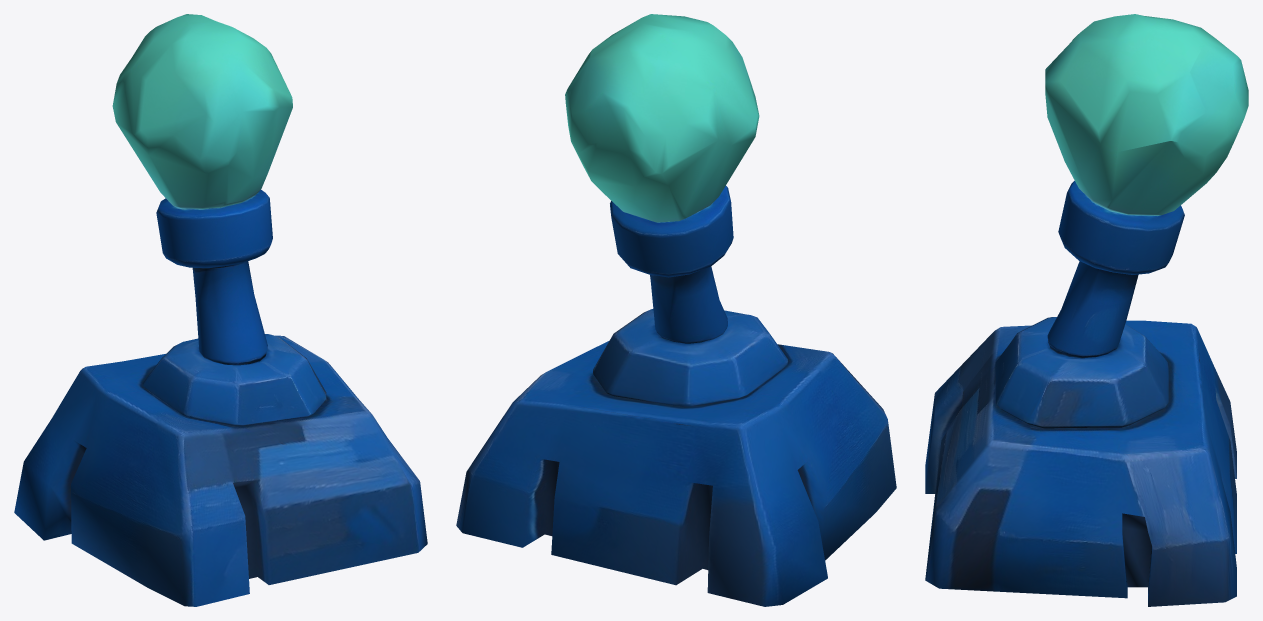
The model's file is ufo-shield-emitter.glb.
3 renders of one model, left to right at view 1: azimuth 30°, elevation 25°; view 2: azimuth 150°, elevation 25°; view 3: azimuth 270°, elevation 25°, orthographic. The views are drawn at different scales.
Parts seen in each view (by area): view 1: tripo_node_2fa7f583-fdff-44cc-8351-ef418d7a3222; view 2: tripo_node_2fa7f583-fdff-44cc-8351-ef418d7a3222; view 3: tripo_node_2fa7f583-fdff-44cc-8351-ef418d7a3222.
Boxes of the visible parts, bbox=[...] form: tripo_node_2fa7f583-fdff-44cc-8351-ef418d7a3222: bbox=[14, 14, 427, 606]; tripo_node_2fa7f583-fdff-44cc-8351-ef418d7a3222: bbox=[456, 14, 896, 606]; tripo_node_2fa7f583-fdff-44cc-8351-ef418d7a3222: bbox=[925, 14, 1248, 606].
Size of the model in its own units: 0.281 by 0.4 by 0.2341.
1 material, 1 textured.
